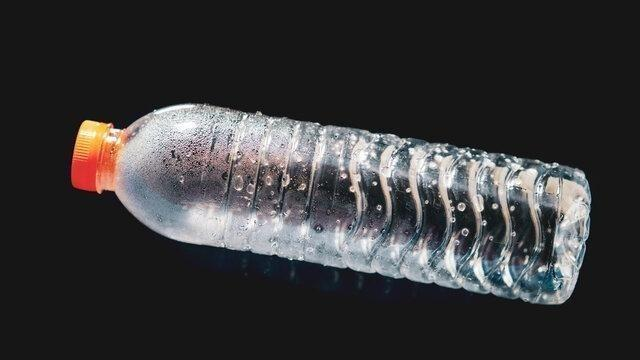bottle-plastic: (66, 96, 593, 304)
